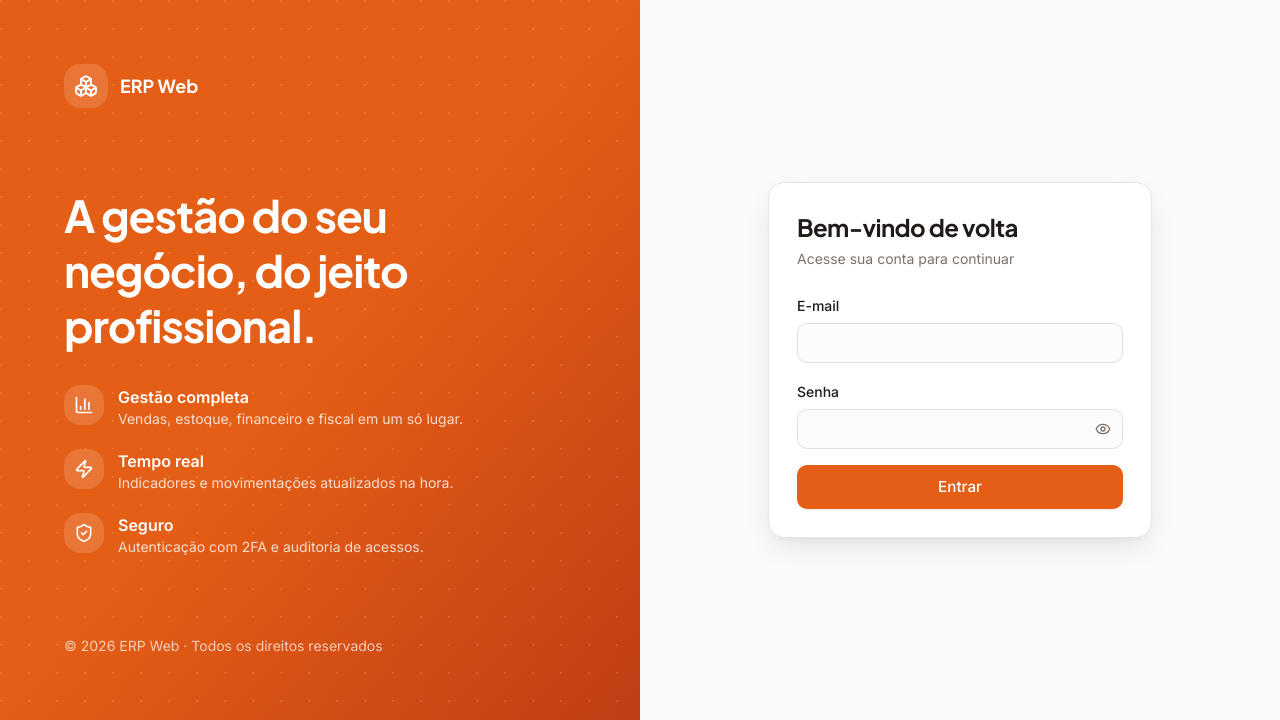
Test: LoginPage › exibe o campo de codigo 2FA quando o erro menciona 2FA
The width and height of the screenshot is (1280, 720).
In the field labelled "E-mail": (960, 343) [797, 323, 1123, 363], type "usuario@teste.com"
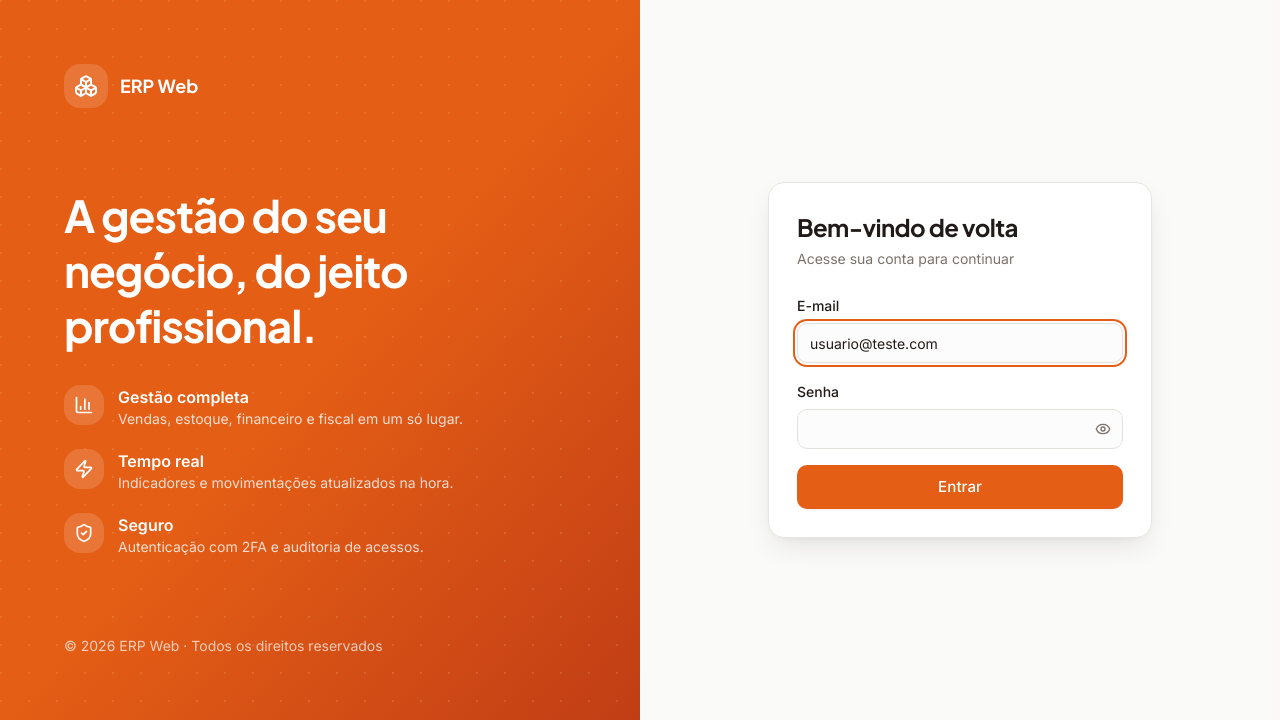
In the password field labelled "Senha": (960, 429) [797, 409, 1123, 449], type "senha-do-usuario"
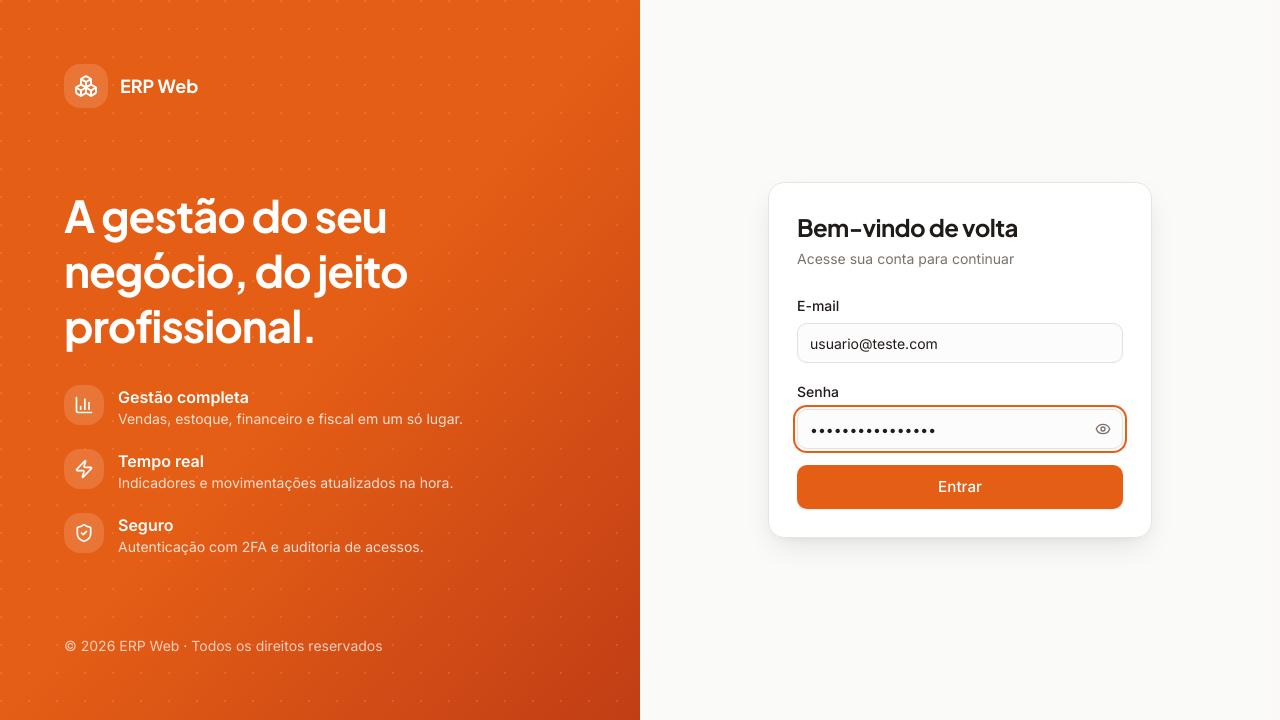
Click the button "Entrar": (960, 487) [797, 465, 1123, 509]
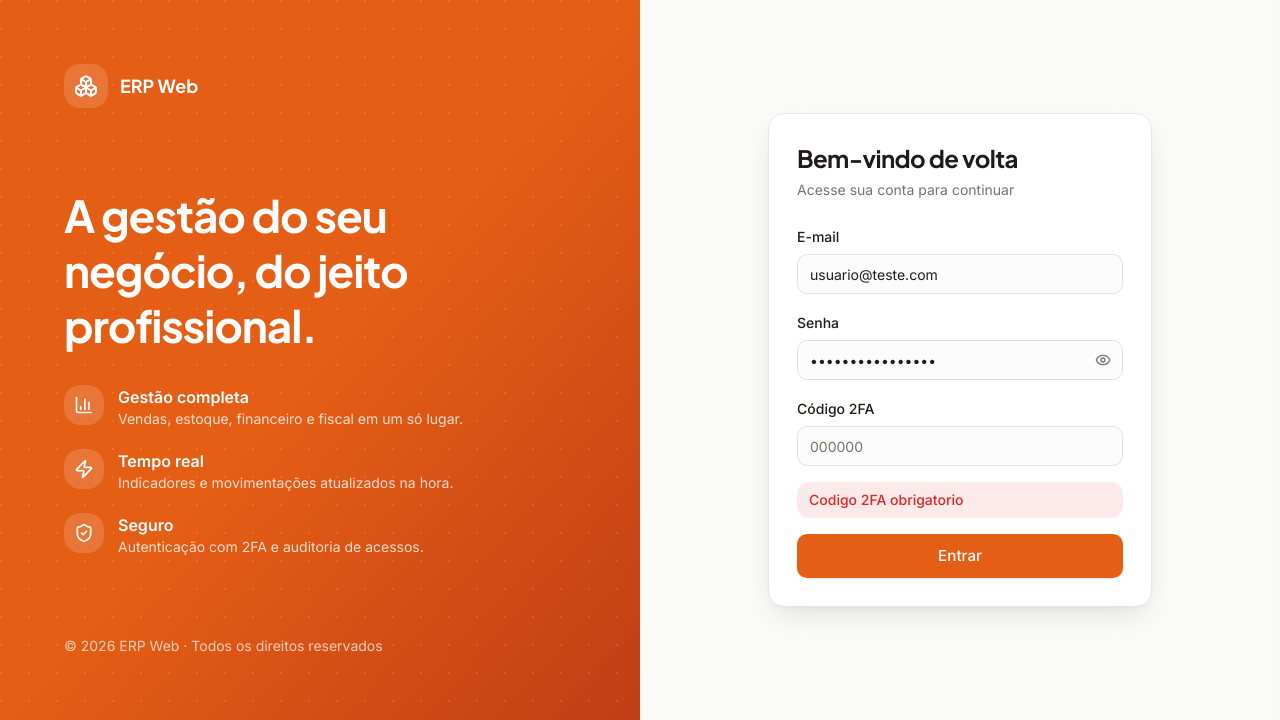
Result: the field labelled "Código 2FA" is shown at [797, 426, 1123, 466]
